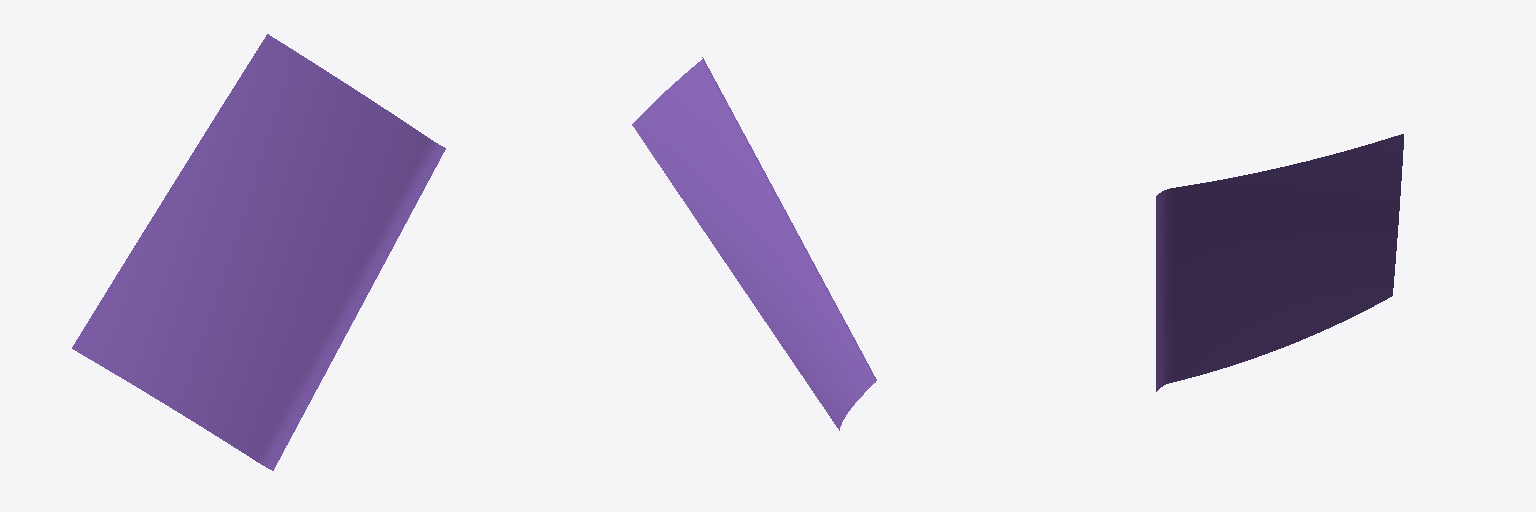
Rendered from Page_5-6_Plane_002.obj.
3 views of the same model, side by side, from view 1: azimuth 30°, elevation 25°; view 2: azimuth 150°, elevation 25°; view 3: azimuth 270°, elevation 25° (orthographic).
Visible parts, largest first — view 1: Page_5-6_Plane.002; view 2: Page_5-6_Plane.002; view 3: Page_5-6_Plane.002.
Part boxes in pixels (left/top/right/bottom): Page_5-6_Plane.002: left=72, top=34, right=445, bottom=470; Page_5-6_Plane.002: left=632, top=57, right=876, bottom=430; Page_5-6_Plane.002: left=1156, top=134, right=1403, bottom=391.
Size of the model in its own units: 3.27 by 3.87 by 2.75.